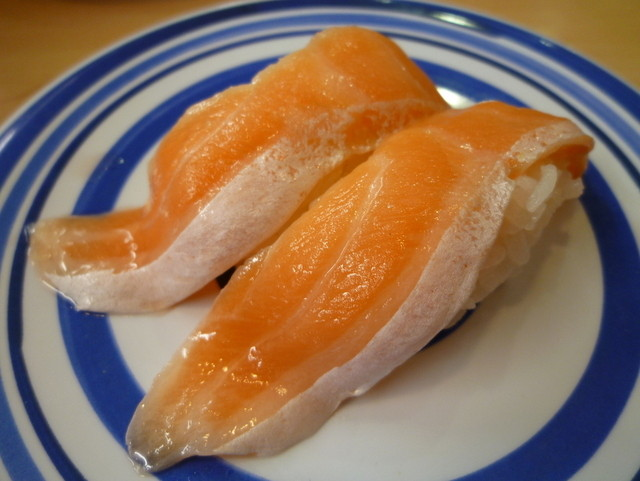salmon: (142, 104, 586, 457)
